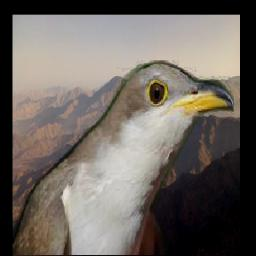Cuckoo: (13, 60, 235, 255)
